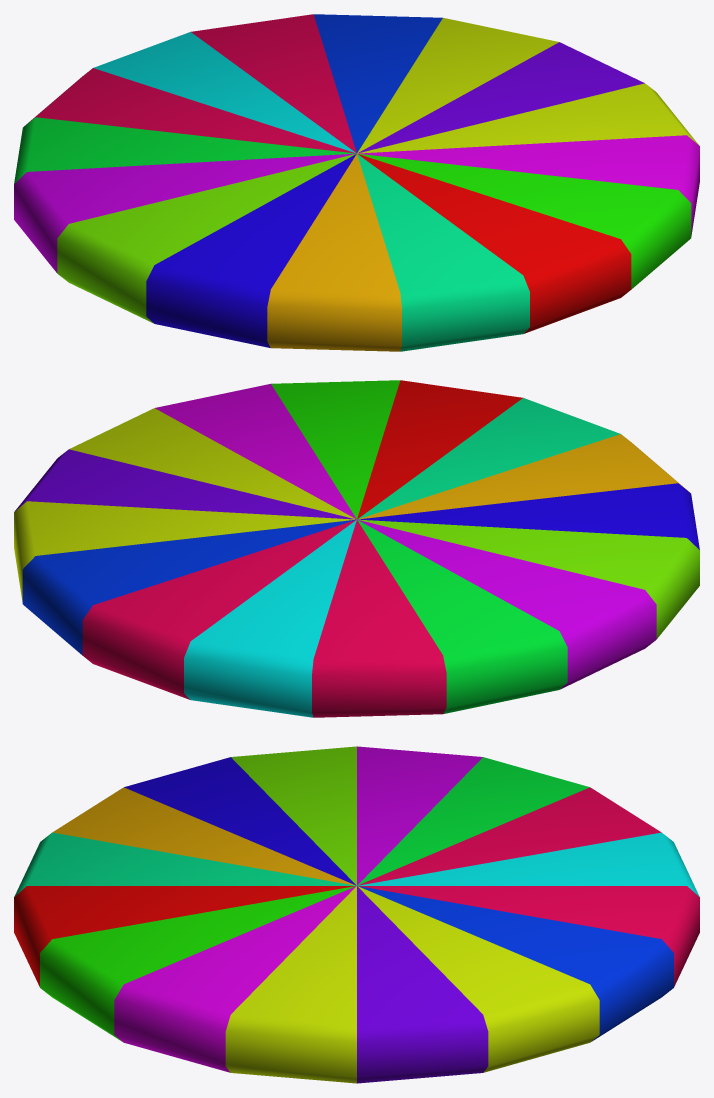
The model's file is wheel.glb.
The picture shows the model from 3 angles, top to bottom: view 1: azimuth 30°, elevation 25°; view 2: azimuth 150°, elevation 25°; view 3: azimuth 270°, elevation 25°; orthographic projection.
Parts seen in each view (by area): view 1: Cylinder; view 2: Cylinder; view 3: Cylinder.
Part boxes in pixels (x1,y1,x2,y2): Cylinder: [14, 14, 699, 351]; Cylinder: [14, 380, 699, 717]; Cylinder: [14, 746, 699, 1083].
Bounding box in the file's own units: 8 × 0.75 × 8.
